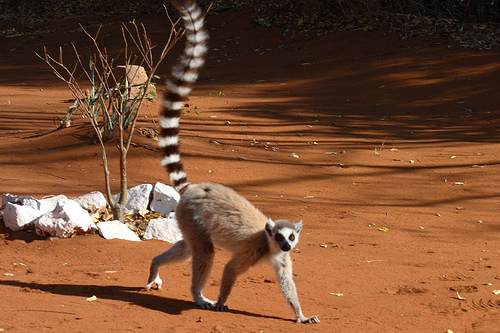cat: (135, 0, 326, 328)
